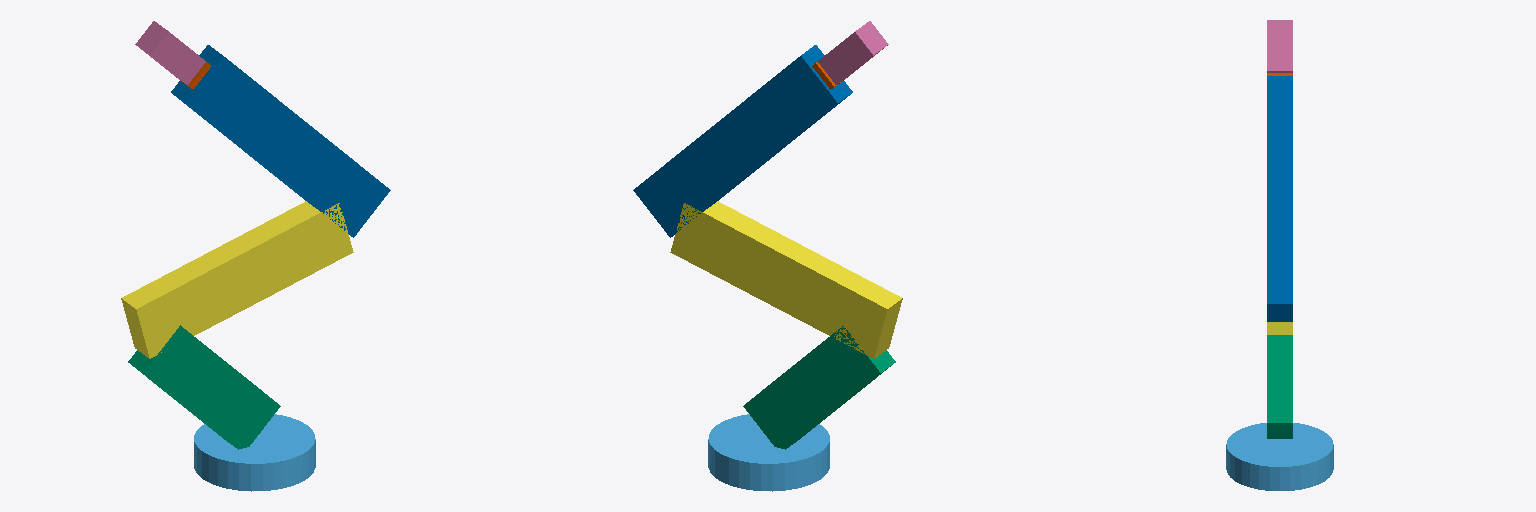
The robot description file, URDF, robot "rover":
<?xml version="1.0" encoding="utf-8"?>
<!-- =================================================================================== -->
<!-- |    This document was autogenerated by xacro from rover.urdf.xacro               | -->
<!-- |    EDITING THIS FILE BY HAND IS NOT RECOMMENDED                                 | -->
<!-- =================================================================================== -->
<robot name="rover" xmlns:xacro="http://www.ros.org/wiki/xacro">
  <!-- Define a default link for the world -->
  <link name="world"/>
  <!-- TODO(someshdaga): Define the model of the arm accurately
       i.e dimensions, layout, limits, efforts, meshes, materials etc -->
  <!-- m -->
  <!-- m -->
  <!-- m -->
  <!-- m -->
  <!-- m -->
  <!-- rad/s^2 -->
  <!-- m -->
  <!-- (JOINT) MOBILE BASE/WORLD -> TURNTABLE -->
  <joint name="arm_base_turntable_joint" type="fixed">
    <parent link="world"/>
    <child link="arm_turntable_link"/>
    <axis rpy="0 0 0" xyz="0 0 1"/>
    <origin rpy="0 0 0" xyz="0 0 0.025"/>
  </joint>
  <!-- (LINK) TURNTABLE -->
  <link name="arm_turntable_link">
    <inertial>
      <mass value="5"/>
      <origin rpy="0 0 0" xyz="0 0 0.025"/>
      <inertia ixx="0.0135416666667" ixy="0" ixz="0" iyy="0.025" iyz="0" izz="0.0135416666667"/>
    </inertial>
    <visual>
      <origin rpy="0 0 0" xyz="0 0 0.025"/>
      <geometry>
        <cylinder length="0.05" radius="0.1"/>
      </geometry>
    </visual>
    <collision>
      <origin rpy="0 0 0" xyz="0 0 0.025"/>
      <geometry>
        <cylinder length="0.05" radius="0.1"/>
      </geometry>
    </collision>
  </link>
  <!-- (JOINT) TURNTABLE -> SHOULDER REVOLUTE LINK -->
  <joint name="arm_shoulder_joint" type="revolute">
    <parent link="arm_turntable_link"/>
    <child link="arm_shoulder_revolute_link"/>
    <origin rpy="0 0 0" xyz="0 0 0.075"/>
    <axis xyz="0 1 0"/>
    <limit effort="75" lower="-1.308996939" upper="-0.261799387799" velocity="1.0"/>
  </joint>
  <!-- (LINK) SHOULDER_REVOLUTE_LINK -->
  <link name="arm_shoulder_revolute_link">
    <inertial>
      <mass value="1.0"/>
      <origin rpy="0 0 0" xyz="0 0 0.135"/>
      <inertia ixx="0.00628333333333" ixy="0" ixz="0" iyy="0.00690833333333" iyz="0" izz="0.00104166666667"/>
    </inertial>
    <visual>
      <origin rpy="0 0 0" xyz="0 0 0.135"/>
      <geometry>
        <box size="0.1                      0.05                      0.27"/>
      </geometry>
    </visual>
    <collision>
      <origin rpy="0 0 0" xyz="0 0 0.135"/>
      <geometry>
        <box size="0.1                      0.05                      0.27"/>
      </geometry>
    </collision>
  </link>
  <!-- (JOINT) SHOULDER->BICEP (NOT ACTUATED) -->
  <joint name="arm_shoulder_bicep_joint" type="fixed">
    <parent link="arm_shoulder_revolute_link"/>
    <child link="arm_bicep_link"/>
    <origin rpy="0 2.09439510239 0" xyz="0 0 0.32"/>
  </joint>
  <!-- (LINK) BICEP -->
  <link name="arm_bicep_link">
    <inertial>
      <mass value="3.0"/>
      <origin rpy="0 0 0" xyz="0 0 0.2"/>
      <inertia ixx="0.040625" ixy="0" ixz="0" iyy="0.0425" iyz="0" izz="0.003125"/>
    </inertial>
    <visual>
      <origin rpy="0 0 0" xyz="0 0 0.2"/>
      <geometry>
        <box size="0.1                      0.05                      0.4"/>
      </geometry>
    </visual>
    <collision>
      <origin rpy="0 0 0" xyz="0 0 0.2"/>
      <geometry>
        <box size="0.1                      0.05                      0.4"/>
      </geometry>
    </collision>
  </link>
  <!-- (JOINT) ELBOW (BICEP->FOREARM) -->
  <joint name="arm_elbow_joint" type="revolute">
    <parent link="arm_bicep_link"/>
    <child link="arm_forearm_link"/>
    <origin rpy="0 -2.09439510239 0" xyz="0 0 0.45"/>
    <axis xyz="0 1 0"/>
    <limit effort="75" lower="0.0" upper="1.3962634016" velocity="1.0"/>
  </joint>
  <!-- (LINK) FOREARM -->
  <link name="arm_forearm_link">
    <inertial>
      <mass value="3.0"/>
      <origin rpy="0 0 0" xyz="0 0 0.225"/>
      <inertia ixx="0.05125" ixy="0" ixz="0" iyy="0.053125" iyz="0" izz="0.003125"/>
    </inertial>
    <visual>
      <origin rpy="0 0 0" xyz="0 0 0.225"/>
      <geometry>
        <box size="0.1                      0.05                      0.45"/>
      </geometry>
    </visual>
    <collision>
      <origin rpy="0 0 0" xyz="0 0 0.225"/>
      <geometry>
        <box size="0.1                      0.05                      0.45"/>
      </geometry>
    </collision>
  </link>
  <!-- (JOINT) WRIST [ROLL] -->
  <joint name="arm_wrist_roll_joint" type="revolute">
    <parent link="arm_forearm_link"/>
    <child link="arm_wrist_link"/>
    <origin rpy="0 0 0" xyz="0 0 0.46"/>
    <axis xyz="0 0 1"/>
    <limit effort="75" lower="-2.35619449019" upper="2.35619449019" velocity="1.0"/>
  </joint>
  <!-- (LINK) FAKE WRIST
         (Virtual link break differential transmission into 2 simple transmissions) -->
  <link name="arm_wrist_link">
    <inertial>
      <mass value="0.25"/>
      <origin rpy="0 0 0" xyz="0 0 0"/>
      <inertia ixx="5.41666666667e-05" ixy="0" ixz="0" iyy="5.41666666667e-05" iyz="0" izz="0.000104166666667"/>
    </inertial>
    <visual>
      <origin rpy="0 0 0" xyz="0 0 0"/>
      <geometry>
        <box size="0.05                      0.05                      0.01"/>
      </geometry>
    </visual>
    <collision>
      <origin rpy="0 0 0" xyz="0 0 0"/>
      <geometry>
        <box size="0.05                      0.05                      0.01"/>
      </geometry>
    </collision>
  </link>
  <!-- (JOINT) WRIST [PITCH] -->
  <joint name="arm_wrist_pitch_joint" type="revolute">
    <parent link="arm_wrist_link"/>
    <child link="arm_claw_link"/>
    <origin rpy="0 0 0" xyz="0 0 0.01"/>
    <axis xyz="0 1 0"/>
    <limit effort="75" lower="-1.308996939" upper="1.308996939" velocity="1.0"/>
  </joint>
  <!-- (LINK) CLAW -->
  <link name="arm_claw_link" type="fixed">
    <inertial>
      <mass value="0.5"/>
      <origin rpy="0 0 0" xyz="0 0 0.05"/>
      <inertia ixx="0.000520833333333" ixy="0" ixz="0" iyy="0.000520833333333" iyz="0" izz="0.000208333333333"/>
    </inertial>
    <visual>
      <origin rpy="0 0 0" xyz="0 0 0.05"/>
      <geometry>
        <box size="0.05 0.05 0.1"/>
      </geometry>
    </visual>
    <collision>
      <origin rpy="0 0 0" xyz="0 0 0.025"/>
      <geometry>
        <box size="0.05                      0.05                      0.1"/>
      </geometry>
    </collision>
  </link>
  <gazebo>
    <plugin filename="libgazebo_uwrt_arm_hw.so" name="uwrt_arm_hw">
      <robotNamespace>/</robotNamespace>
    </plugin>
  </gazebo>
  <gazebo reference="arm_turntable_link">
    <static>false</static>
    <gravity>true</gravity>
    <selfCollide>true</selfCollide>
  </gazebo>
  <gazebo reference="arm_shoulder_revolute_link">
    <static>false</static>
    <gravity>true</gravity>
    <selfCollide>true</selfCollide>
  </gazebo>
  <gazebo reference="arm_bicep_link">
    <static>false</static>
    <gravity>true</gravity>
    <selfCollide>true</selfCollide>
  </gazebo>
  <gazebo reference="arm_forearm_link">
    <static>false</static>
    <gravity>true</gravity>
    <selfCollide>true</selfCollide>
  </gazebo>
  <gazebo reference="arm_wrist_link">
    <static>false</static>
    <gravity>true</gravity>
    <selfCollide>true</selfCollide>
  </gazebo>
  <gazebo reference="arm_claw_link">
    <static>false</static>
    <gravity>true</gravity>
    <selfCollide>true</selfCollide>
  </gazebo>
  <!-- SHOULDER -->
  <transmission name="arm_shoulder_trans">
    <type>transmission_interface/SimpleTransmission</type>
    <joint name="arm_shoulder_joint">
      <hardwareInterface>hardware_interface/PositionJointInterface</hardwareInterface>
    </joint>
    <actuator name="arm_shoulder_motor">
      <mechanicalReduction>1</mechanicalReduction>
    </actuator>
  </transmission>
  <!-- ELBOW -->
  <transmission name="arm_elbow_trans">
    <type>transmission_interface/SimpleTransmission</type>
    <joint name="arm_elbow_joint">
      <hardwareInterface>hardware_interface/PositionJointInterface</hardwareInterface>
    </joint>
    <actuator name="arm_elbow_motor">
      <mechanicalReduction>1</mechanicalReduction>
    </actuator>
  </transmission>
  <!-- WRIST -->
  <transmission name="arm_wrist_roll_trans">
    <type>transmission_interface/SimpleTransmission</type>
    <joint name="arm_wrist_roll_joint">
      <hardwareInterface>hardware_interface/PositionJointInterface</hardwareInterface>
    </joint>
    <actuator name="arm_wrist_roll_motor">
      <mechanicalReduction>1</mechanicalReduction>
    </actuator>
  </transmission>
  <transmission name="arm_wrist_pitch_trans">
    <type>transmission_interface/SimpleTransmission</type>
    <joint name="arm_wrist_pitch_joint">
      <hardwareInterface>hardware_interface/PositionJointInterface</hardwareInterface>
    </joint>
    <actuator name="arm_wrist_pitch_motor">
      <mechanicalReduction>1</mechanicalReduction>
    </actuator>
  </transmission>
</robot>

--- What the picture shows (computed from the rendered views, not written in the file) ---
The picture shows the robot from 3 angles, left to right: view 1: azimuth 30°, elevation 25°; view 2: azimuth 150°, elevation 25°; view 3: azimuth 270°, elevation 25°; orthographic projection.
Robot: rover — 7 links, 6 joints (4 revolute, 2 fixed); root link world; default pose: all joints at 0 but 1 set to mid-range because 0 is outside their limits (arm_shoulder_joint = -0.7854).
Links seen in each view (by area): view 1: arm_bicep_link, arm_forearm_link, arm_shoulder_revolute_link, arm_turntable_link, arm_claw_link; view 2: arm_bicep_link, arm_forearm_link, arm_shoulder_revolute_link, arm_turntable_link, arm_claw_link; view 3: arm_forearm_link, arm_turntable_link, arm_shoulder_revolute_link, arm_claw_link.
Boxes of the visible links, x1,y1,x2,y2 form: arm_bicep_link: (121, 201, 353, 358); arm_forearm_link: (171, 45, 390, 237); arm_shoulder_revolute_link: (128, 325, 280, 449); arm_turntable_link: (194, 414, 315, 491); arm_claw_link: (135, 21, 205, 84); arm_bicep_link: (670, 201, 902, 358); arm_forearm_link: (633, 45, 852, 237); arm_shoulder_revolute_link: (743, 326, 895, 449); arm_turntable_link: (708, 414, 829, 491); arm_claw_link: (818, 21, 888, 84); arm_forearm_link: (1267, 76, 1292, 321); arm_turntable_link: (1226, 423, 1333, 490); arm_shoulder_revolute_link: (1267, 335, 1292, 438); arm_claw_link: (1267, 20, 1292, 72).
Bounding box of the posed robot: 0.483 × 0.2 × 0.8385 m (x, y, z).
Geometry: primitives only (box / cylinder / sphere), no mesh files.